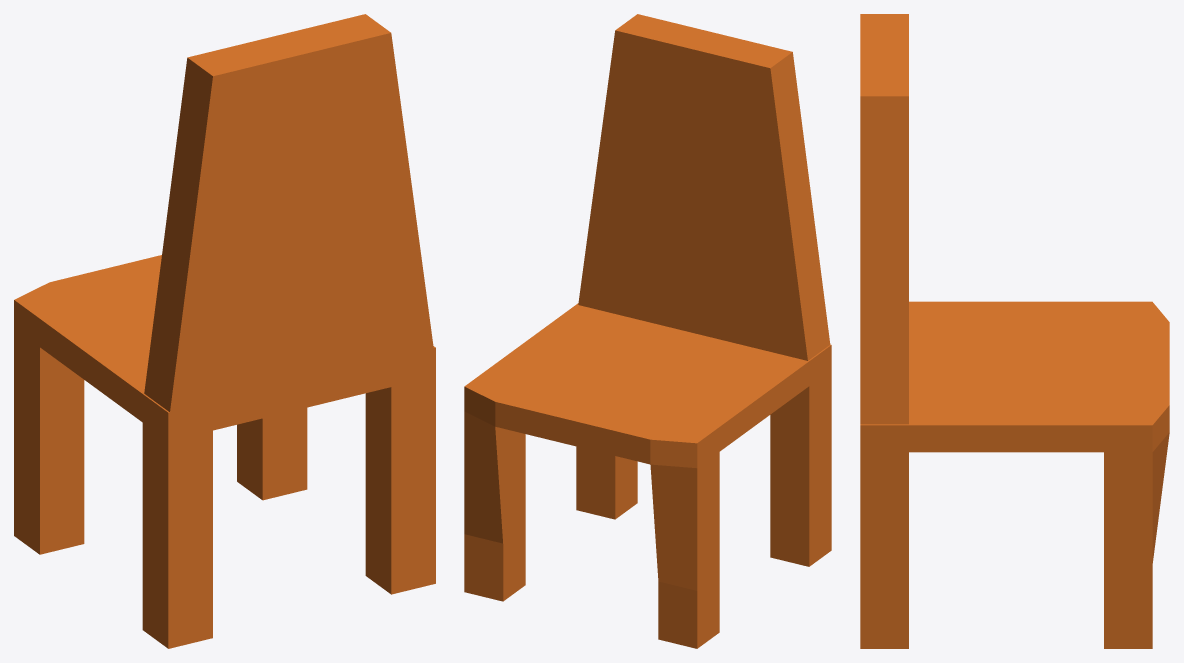
Rendered from chair.fbx.
3 renders of one model, left to right at view 1: azimuth 30°, elevation 25°; view 2: azimuth 150°, elevation 25°; view 3: azimuth 270°, elevation 25°, orthographic. The views are drawn at different scales.
Visible parts, largest first — view 1: Cube; view 2: Cube; view 3: Cube.
Part boxes in pixels (x1=…): Cube: x1=14, y1=14, x2=435, y2=648; Cube: x1=464, y1=14, x2=831, y2=648; Cube: x1=860, y1=14, x2=1169, y2=648.
Size of the model in its own units: 40.16 by 80.63 by 42.53.
